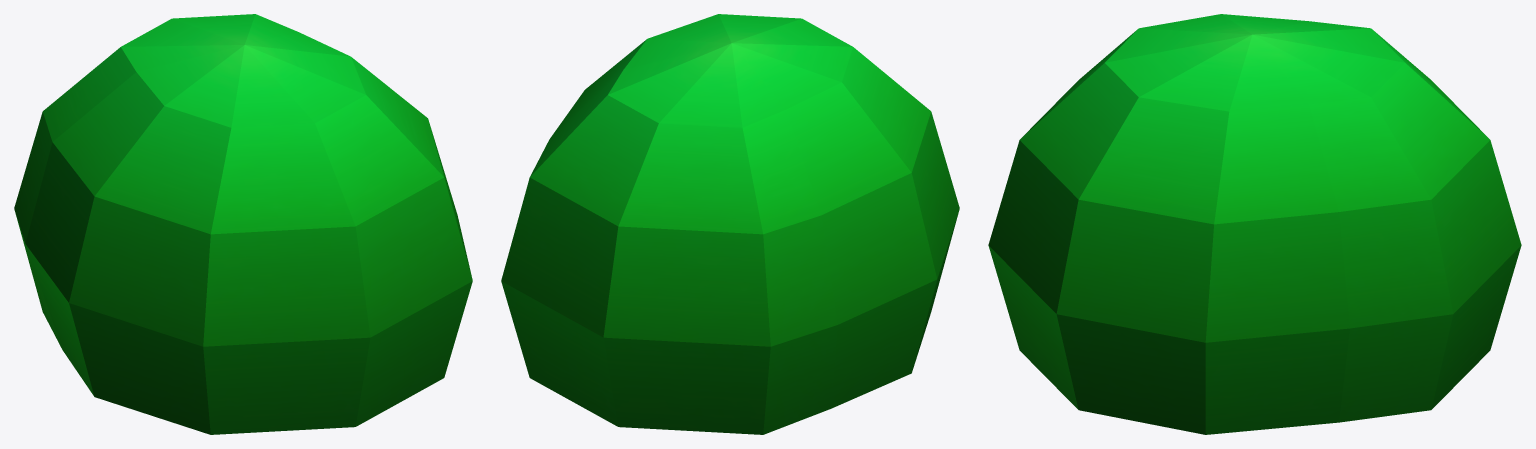
The model's file is Bush_1.fbx.
3 renders of one model, left to right at view 1: azimuth 30°, elevation 25°; view 2: azimuth 150°, elevation 25°; view 3: azimuth 270°, elevation 25°, orthographic. The views are drawn at different scales.
Visible parts, largest first — view 1: Sphere; view 2: Sphere; view 3: Sphere.
Part boxes in pixels (x1,y1,x2,y2): Sphere: (14, 14, 472, 434); Sphere: (501, 14, 959, 434); Sphere: (988, 14, 1521, 434).
Bounding box in the file's own units: 1.3 × 1 × 1.5.
